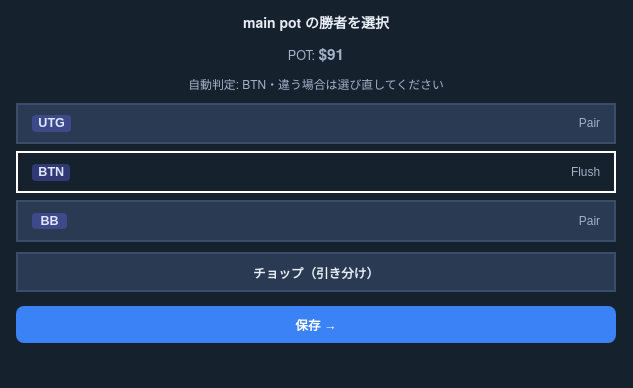
Test: WinnerPanel: 現在ポットの勝者選択（要求17） › 金色になる選択肢は1つだけ: 単独勝者ならその人、チョップならチョップのボタン
What coordinates should you click on to do the following:
click the button "チョップ（引き分け）"
I would click on:
 (316, 272)
Its box is [16,252,616,292].
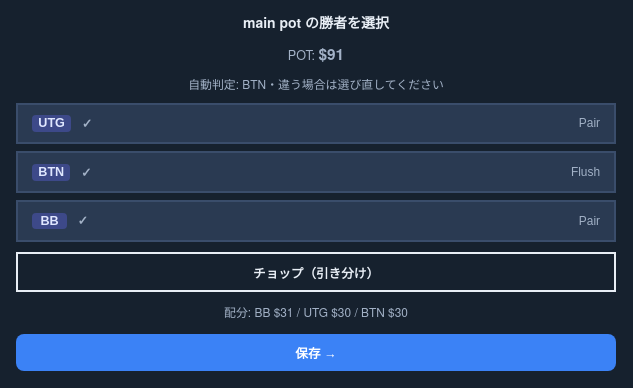
Result: the button "BTN ✓ Flush" is shown at [16,151,616,193]
